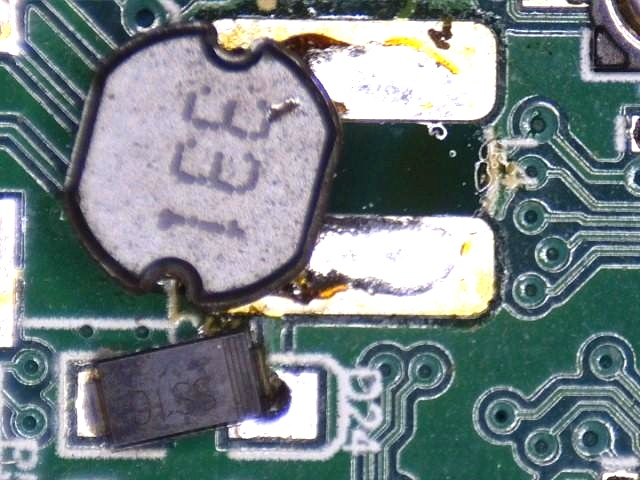pcb_defect: (59, 18, 500, 318), (72, 327, 325, 455)
